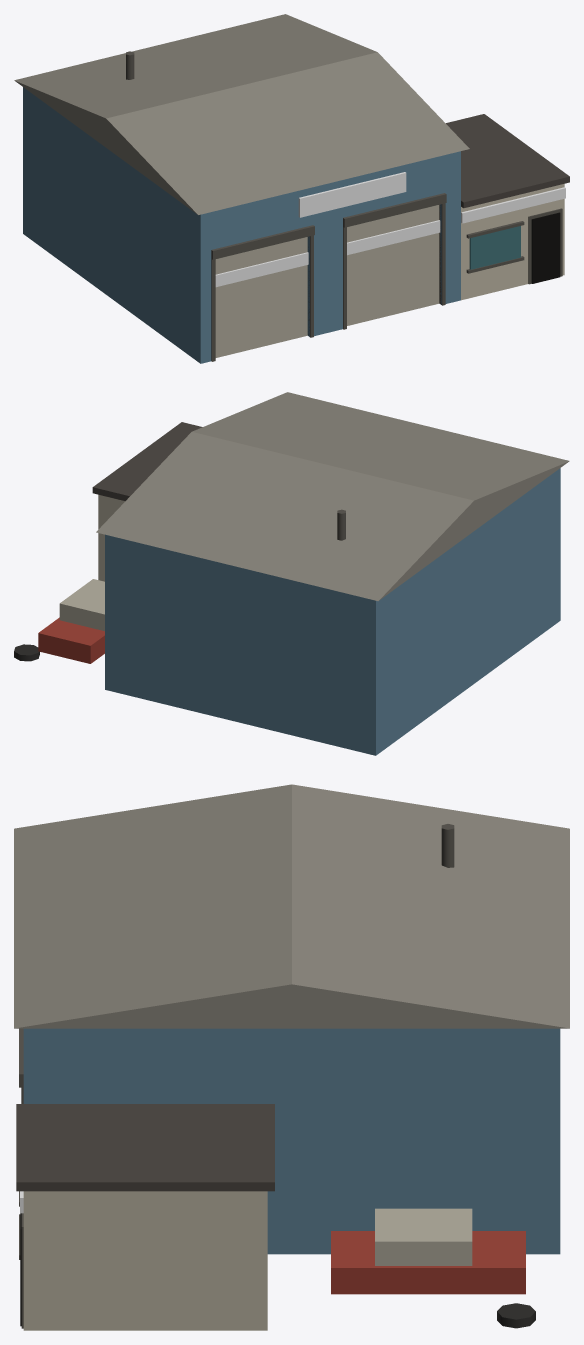
3 renders of one model, top to bottom at view 1: azimuth 30°, elevation 25°; view 2: azimuth 150°, elevation 25°; view 3: azimuth 270°, elevation 25°, orthographic. The views are drawn at different scales.
Visible parts, largest first — view 1: site_garage_restored; view 2: site_garage_restored; view 3: site_garage_restored.
Part boxes in pixels (box(x1,y1,x2,y2)): site_garage_restored: box(14, 14, 569, 363); site_garage_restored: box(14, 392, 569, 755); site_garage_restored: box(14, 784, 569, 1330).
Bounding box in the file's own units: 13.3 × 6.5 × 11.4.
